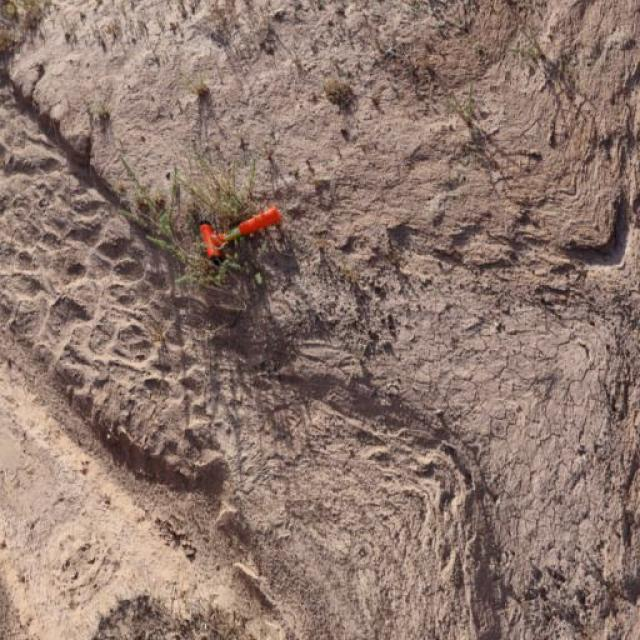mallet: (198, 204, 284, 260)
